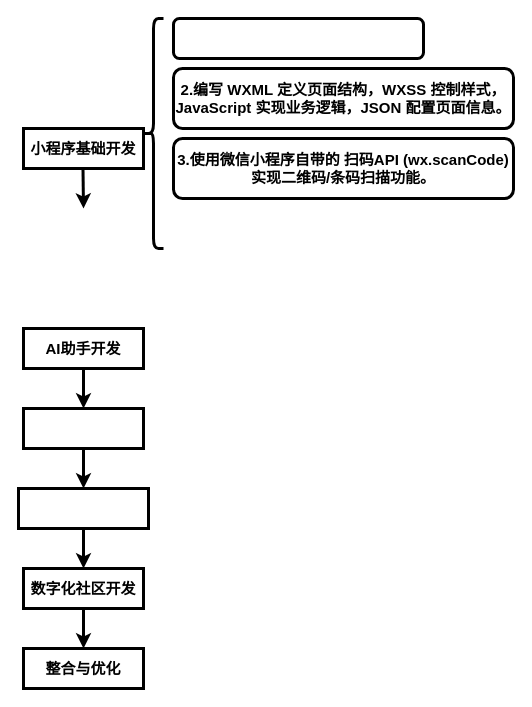
This 532x707 diagram has some shape labels left out. Here are the shapes that lost their labels. From the top down, the centre of each, then its label:
At [298,38]: "1.使用微信开发者工具搭建小程序。".
At [83,428]: "AR功能开发".
At [83,508]: "云端管理平台开发".
